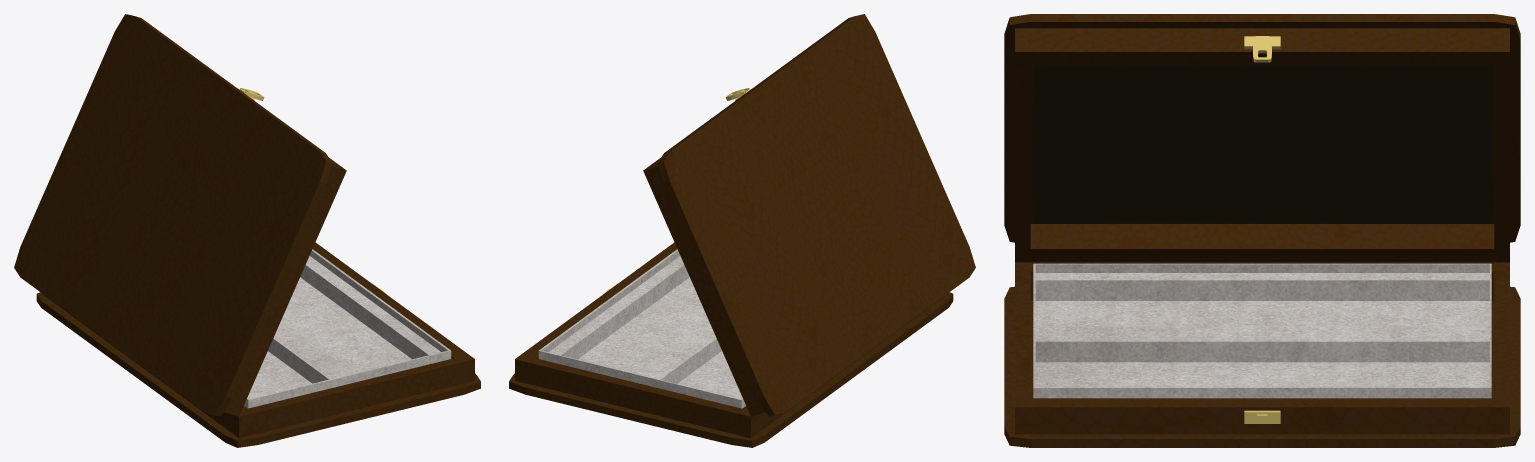
Rendered from slideCase.glb.
3 renders of one model, left to right at view 1: azimuth 30°, elevation 25°; view 2: azimuth 150°, elevation 25°; view 3: azimuth 270°, elevation 25°, orthographic. The views are drawn at different scales.
Visible parts, largest first — view 1: slideCase_grp case_upper slideCase_upper, slideCase_grp case_innerTray, case_lower slideCase_grp; view 2: slideCase_grp case_upper slideCase_upper, slideCase_grp case_innerTray, case_lower slideCase_grp; view 3: slideCase_grp case_upper slideCase_upper, slideCase_grp case_innerTray, case_lower slideCase_grp.
Boxes of the visible parts, x1,y1,x2,y2 form: slideCase_grp case_upper slideCase_upper: (14,14,346,416); slideCase_grp case_innerTray: (244,249,451,408); case_lower slideCase_grp: (36,242,480,447); slideCase_grp case_upper slideCase_upper: (643,14,975,416); slideCase_grp case_innerTray: (538,249,745,408); case_lower slideCase_grp: (509,242,953,447); slideCase_grp case_upper slideCase_upper: (1004,14,1520,262); slideCase_grp case_innerTray: (1033,263,1491,398); case_lower slideCase_grp: (1004,262,1520,447).
Size of the model in its own units: 0.0178 by 0.0169 by 0.0234.
Materials: 1 (1 with a texture image).
